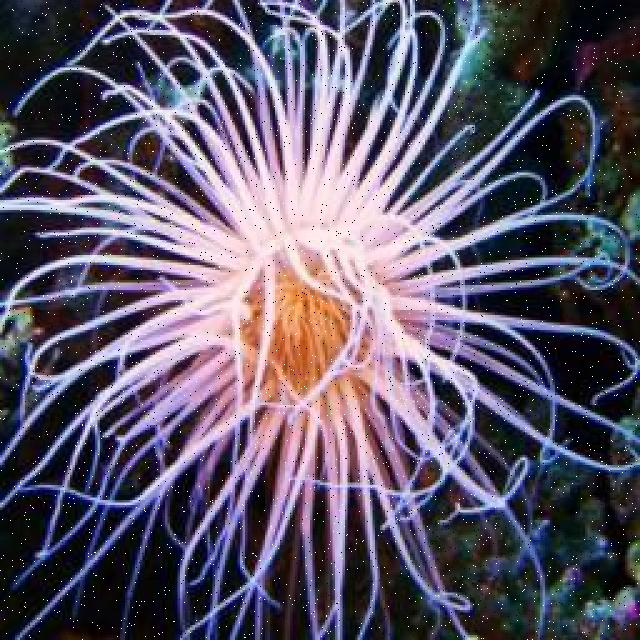reefs: (0, 1, 638, 638)
